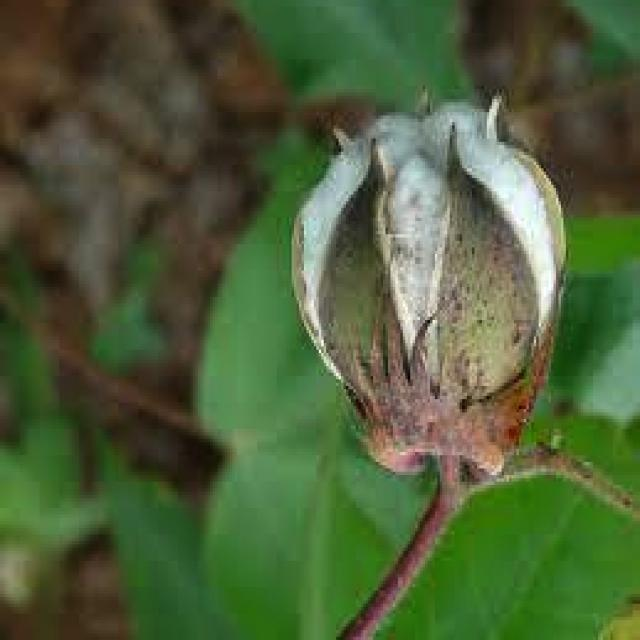Split Cotton Boll: (300, 103, 564, 496)
